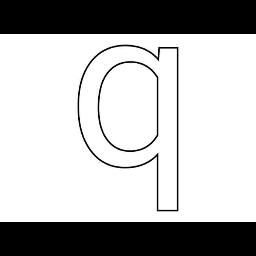q: (73, 42, 185, 216)
